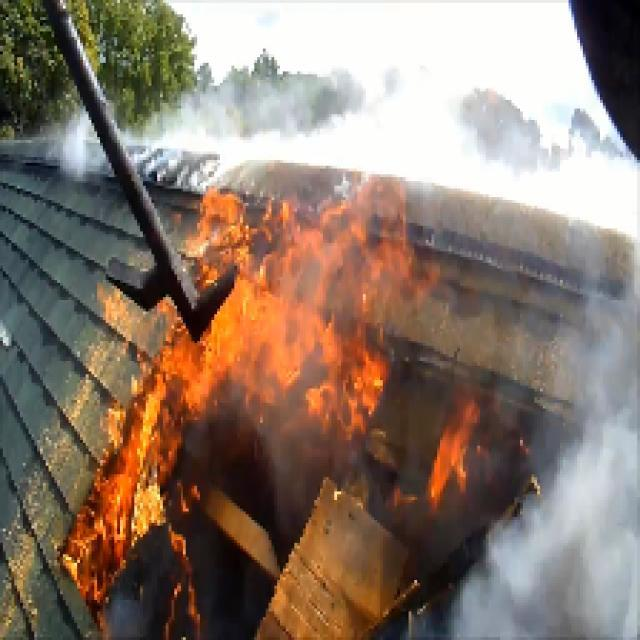Fire: (235, 250, 328, 360), (111, 394, 168, 536), (164, 322, 236, 375)
Smoke: (337, 90, 637, 211), (521, 493, 638, 640)
